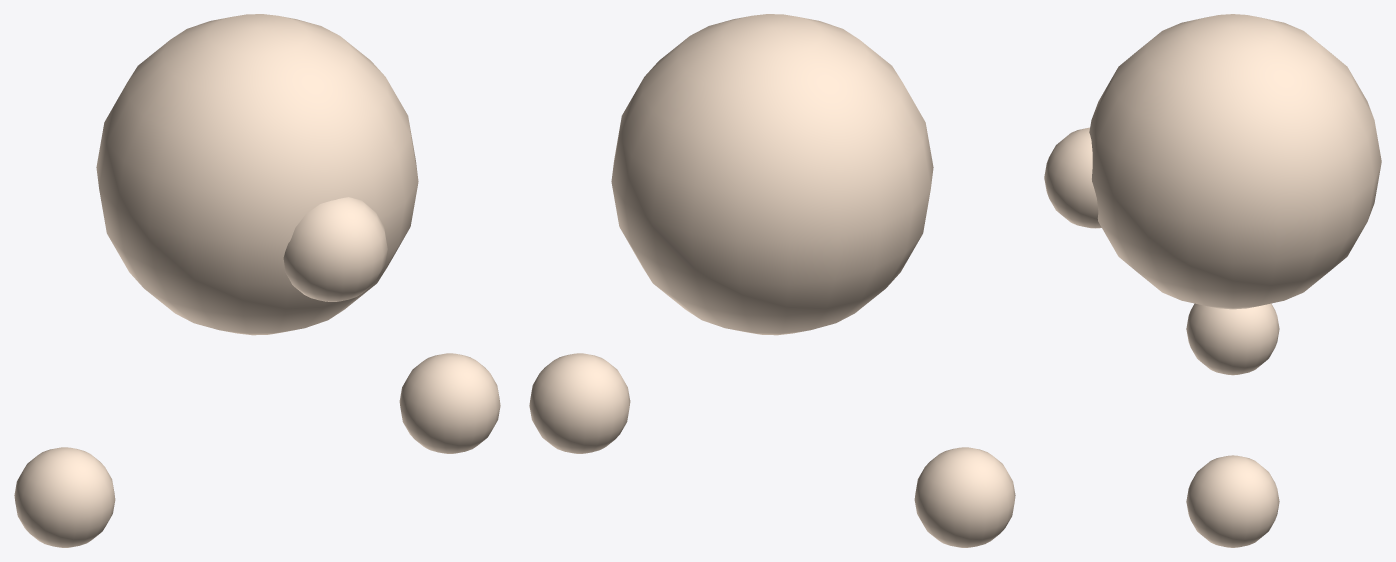
File: gnome_skin.fbx
The picture shows the model from 3 angles, left to right: view 1: azimuth 30°, elevation 25°; view 2: azimuth 150°, elevation 25°; view 3: azimuth 270°, elevation 25°; orthographic projection. The views are drawn at different scales.
Parts seen in each view (by area): view 1: gnome_skin; view 2: gnome_skin; view 3: gnome_skin.
Boxes of the visible parts, x1,y1,x2,y2 form: gnome_skin: (14, 14, 500, 547); gnome_skin: (529, 14, 1015, 547); gnome_skin: (1044, 14, 1381, 547).
Bounding box in the file's own units: 226 × 214 × 152.
